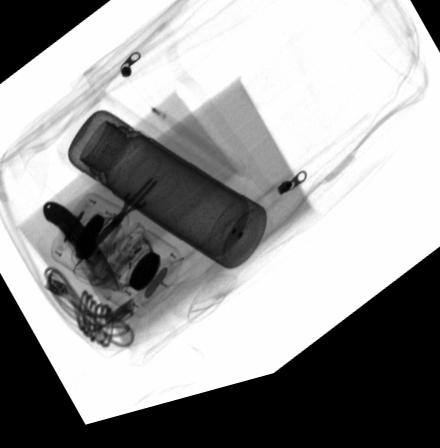Knife: (40, 203, 123, 300)
Scissors: (73, 160, 180, 269)
